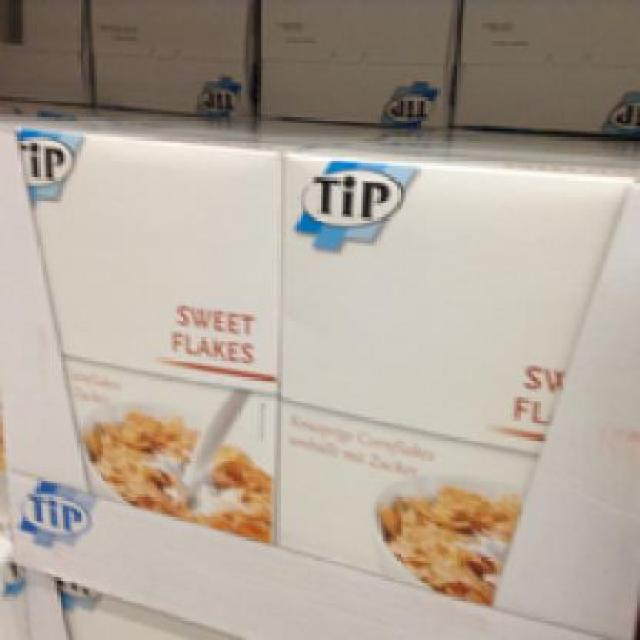Cereal: (277, 134, 637, 606), (5, 117, 288, 532)
